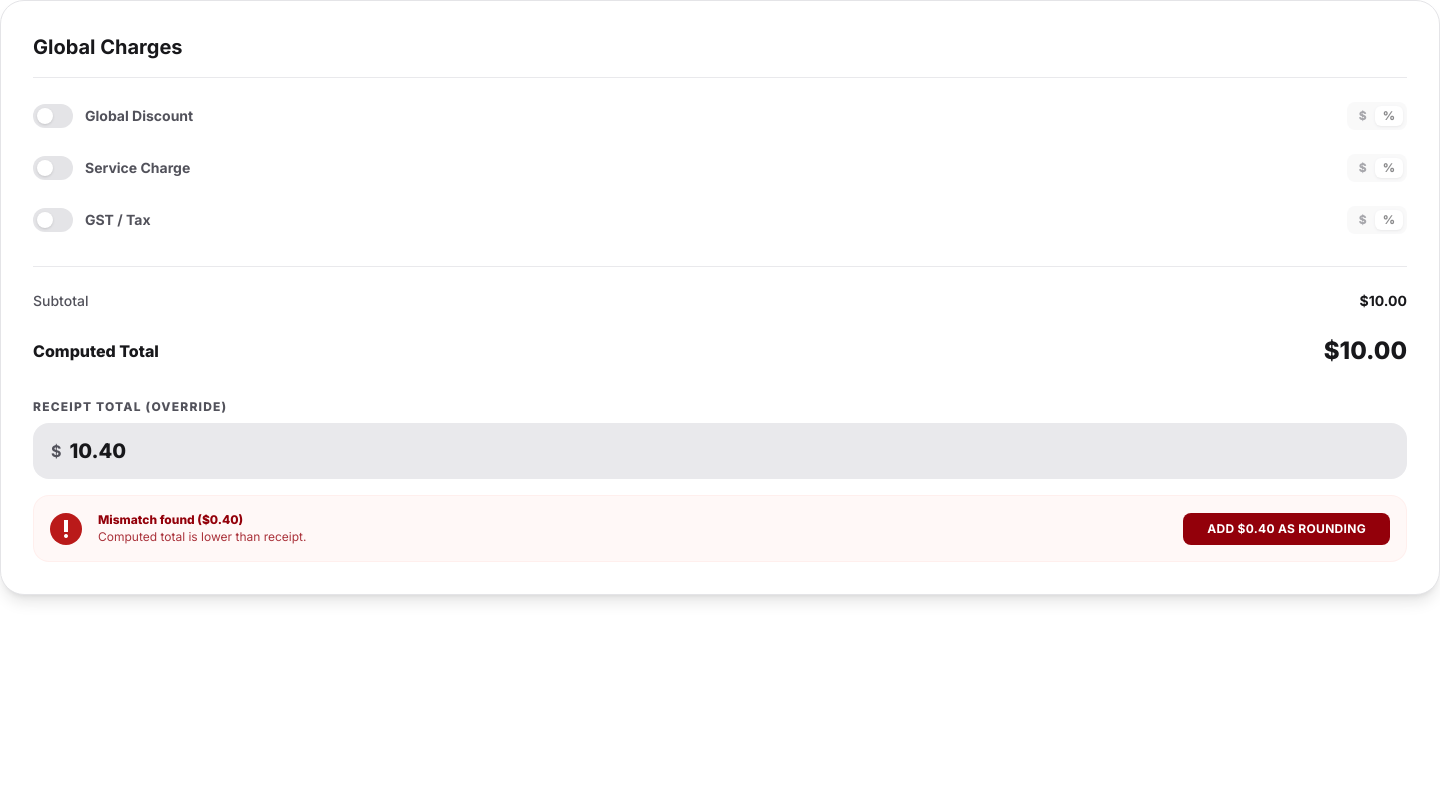
Test: adds a short receipt total as rounding, after which the totals match
Click the button "Add $0.40 as rounding". click: (1287, 528)
box: x1=1183 y1=512 x2=1390 y2=544
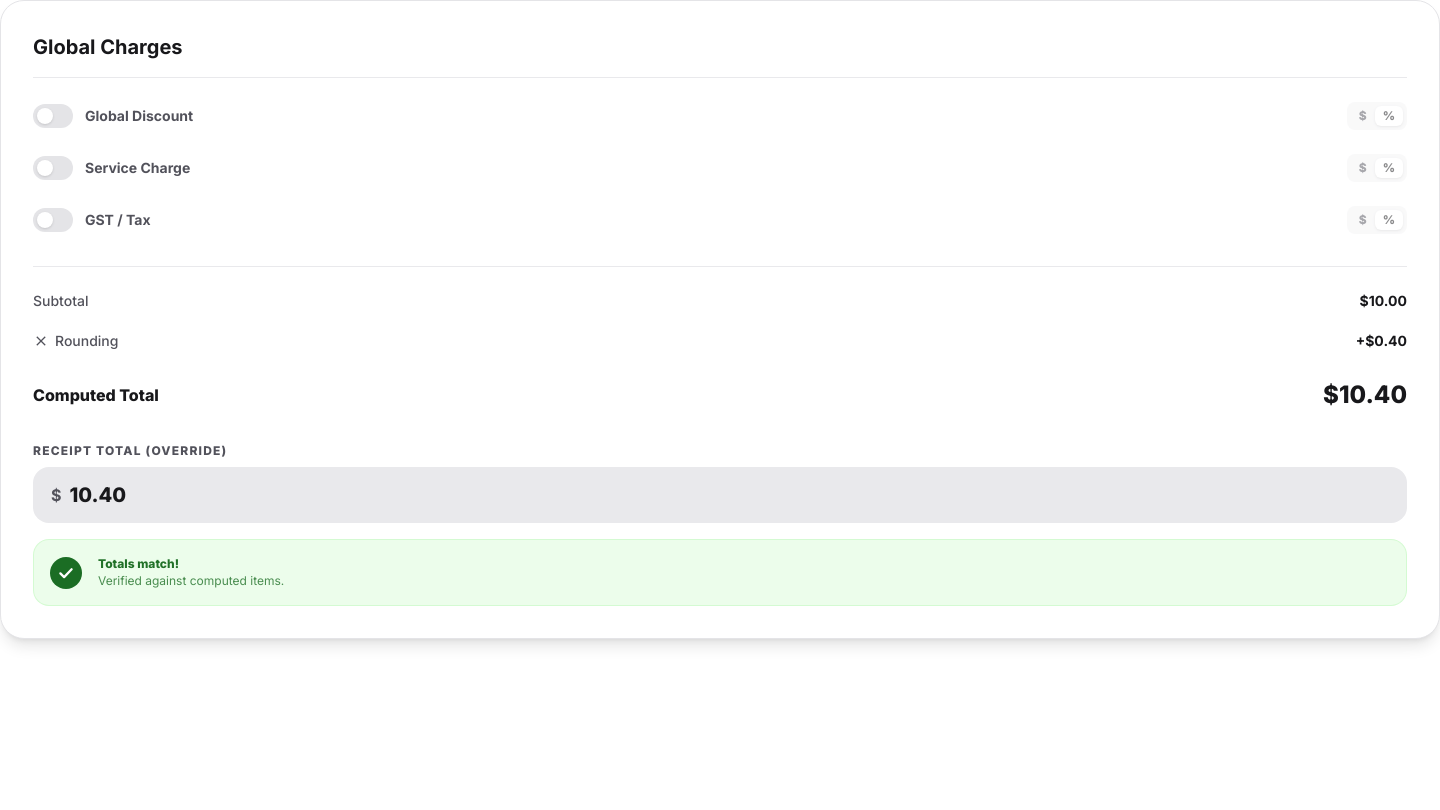
Expected: the text "Totals match!" is shown, x1=98 y1=556 x2=179 y2=571
